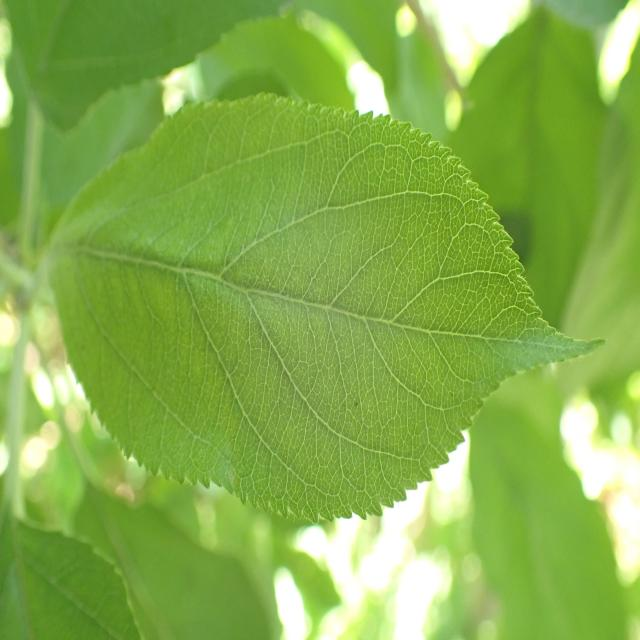healthy: (50, 92, 606, 526), (3, 0, 293, 134), (1, 511, 142, 640)
